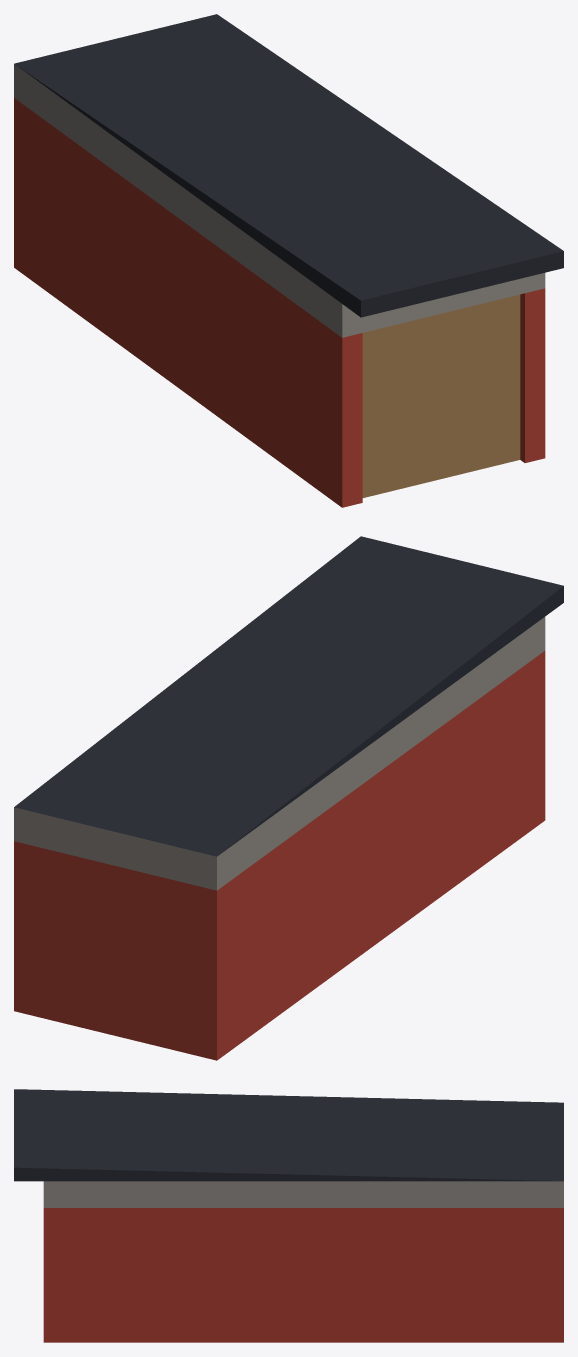
File: garage_house_01.fbx
3 renders of one model, top to bottom at view 1: azimuth 30°, elevation 25°; view 2: azimuth 150°, elevation 25°; view 3: azimuth 270°, elevation 25°, orthographic. The views are drawn at different scales.
Parts seen in each view (by area): view 1: garage_01; view 2: garage_01; view 3: garage_01.
Part boxes in pixels (box(x1,y1,x2,y2)): garage_01: box(14, 14, 563, 507); garage_01: box(14, 536, 563, 1060); garage_01: box(14, 1089, 563, 1342).
Bounding box in the file's own units: 250 × 260 × 740.
